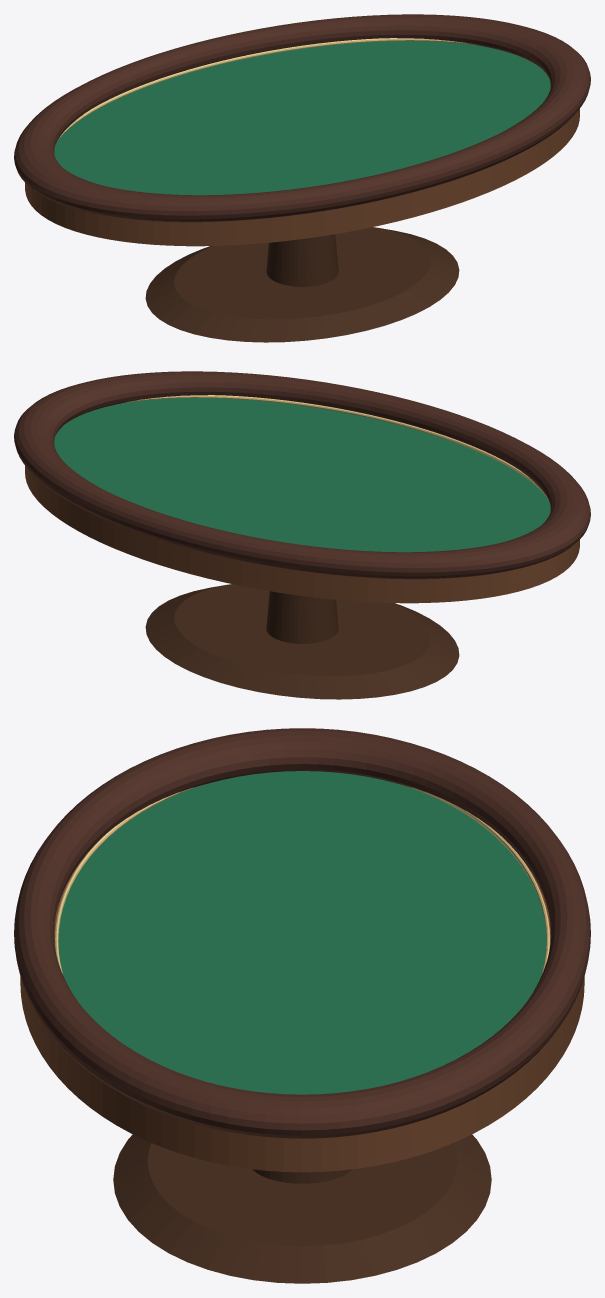
The model's file is table.glb.
The picture shows the model from 3 angles, top to bottom: view 1: azimuth 30°, elevation 25°; view 2: azimuth 150°, elevation 25°; view 3: azimuth 270°, elevation 25°; orthographic projection. The views are drawn at different scales.
Parts seen in each view (by area): view 1: TableFelt, TableRail, TableFoot, TableApron, TablePedestal, TableTrim; view 2: TableFelt, TableRail, TableFoot, TableApron, TablePedestal, TableTrim; view 3: TableFelt, TableRail, TableFoot, TableApron, TableTrim, TablePedestal.
Part boxes in pixels (bbox=[...]): TableFelt: bbox=[54, 41, 550, 195]; TableRail: bbox=[14, 14, 590, 222]; TableFoot: bbox=[145, 227, 459, 342]; TableApron: bbox=[25, 109, 579, 246]; TablePedestal: bbox=[266, 234, 338, 286]; TableTrim: bbox=[57, 38, 485, 141]; TableFelt: bbox=[54, 398, 550, 552]; TableRail: bbox=[14, 371, 590, 579]; TableFoot: bbox=[145, 584, 459, 699]; TableApron: bbox=[25, 466, 579, 603]; TablePedestal: bbox=[266, 591, 338, 643]; TableTrim: bbox=[119, 395, 547, 498]; TableFelt: bbox=[58, 771, 546, 1094]; TableRail: bbox=[14, 728, 590, 1138]; TableFoot: bbox=[113, 1134, 491, 1283]; TableApron: bbox=[20, 862, 584, 1172]; TableTrim: bbox=[54, 784, 550, 973]; TablePedestal: bbox=[253, 1169, 351, 1183].
Bounding box in the file's own units: 2.71 × 0.8454 × 1.68.
